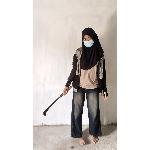Golok: (38, 81, 76, 117)
